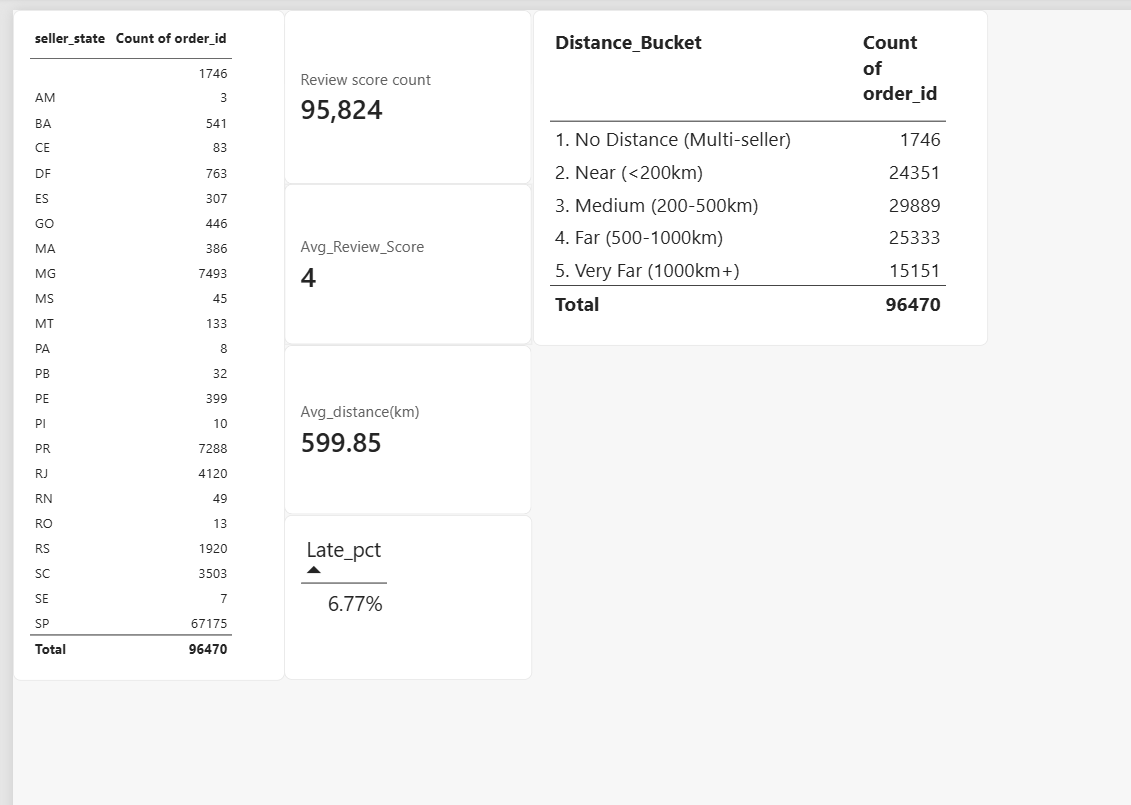

The dashboard page shown, as its layout file describes it:
{"tool":"powerbi","page":{"name":"Page 1","canvas":[1920,1080],"ordinal":0},"visuals":[{"type":"tableEx","fields":{"Values":["dim_seller.seller_state","fact_orders.order_id"]},"box":[0,0,282.1,696.8],"z":0},{"type":"tableEx","fields":{"Values":["fact_orders.Late Percentage"]},"box":[282.1,525.3,257.9,171.6],"z":1},{"type":"cardVisual","fields":{"Data":["fact_orders.Review score count"]},"box":[282.1,0,257.9,181.1],"z":2},{"type":"cardVisual","fields":{"Data":["fact_orders.Avg_Review_Score"]},"box":[282.1,181.1,257.9,167.4],"z":3},{"type":"cardVisual","fields":{"Data":["fact_orders.Avg_distance(km)"]},"box":[282.1,348.4,257.9,176.8],"z":4},{"type":"tableEx","fields":{"Values":["fact_orders.Distance_Bucket","fact_orders.order_id"]},"box":[540,0,472.6,348.4],"z":5}]}

Visuals, with their boxes in screenshot pixels (x1, y1, x2, y2):
tableEx - dim_seller.seller_state x fact_orders.order_id: <bbox>47, 35, 211, 440</bbox>
tableEx - fact_orders.Late Percentage: <bbox>211, 340, 361, 440</bbox>
cardVisual - fact_orders.Review score count: <bbox>211, 35, 361, 141</bbox>
cardVisual - fact_orders.Avg_Review_Score: <bbox>211, 141, 361, 238</bbox>
cardVisual - fact_orders.Avg_distance(km): <bbox>211, 238, 361, 340</bbox>
tableEx - fact_orders.Distance_Bucket x fact_orders.order_id: <bbox>361, 35, 635, 238</bbox>
